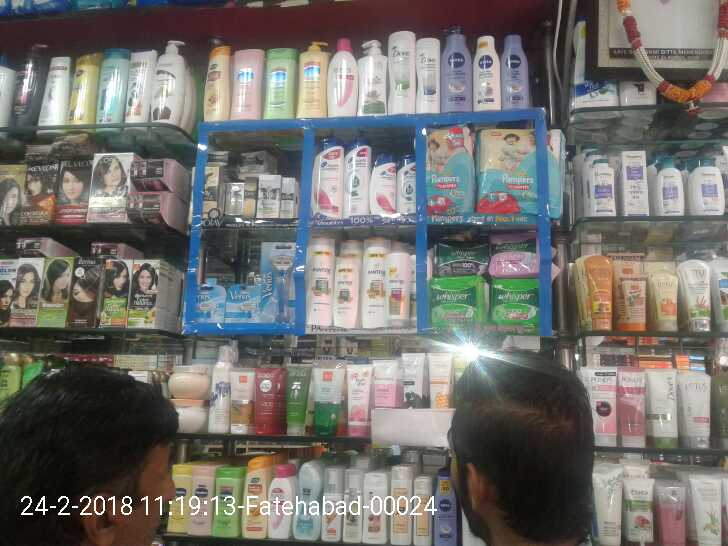venus: (261, 244, 299, 324), (190, 282, 228, 325), (228, 282, 261, 323)
